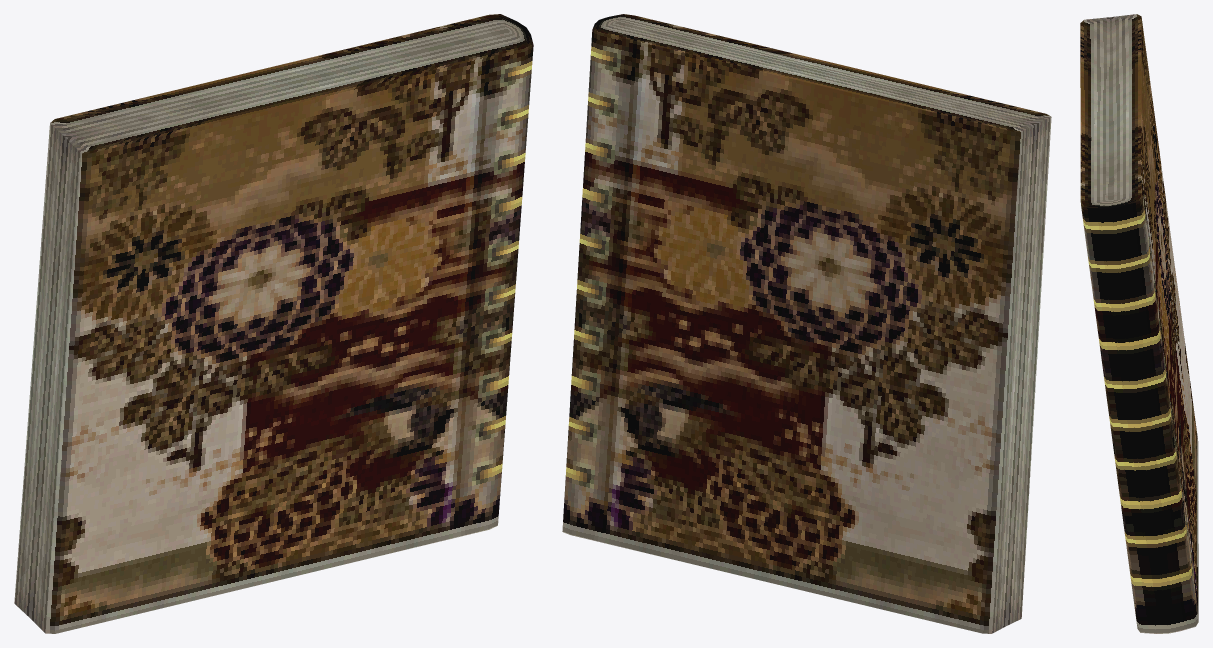
The model's file is ps2_save-icons_fatalframe2-albumdata-slot5yellow.glb.
3 views of the same model, side by side, from view 1: azimuth 30°, elevation 25°; view 2: azimuth 150°, elevation 25°; view 3: azimuth 270°, elevation 25° (orthographic). The views are drawn at different scales.
Visible parts, largest first — view 1: zero-b-album4.ico; view 2: zero-b-album4.ico; view 3: zero-b-album4.ico.
Boxes of the visible parts, <box> form: zero-b-album4.ico: <box>14,14,533,633</box>; zero-b-album4.ico: <box>562,14,1051,633</box>; zero-b-album4.ico: <box>1080,14,1198,633</box>.
Bounding box in the file's own units: 3.58 × 3.79 × 0.9373.
1 material, 1 textured.
